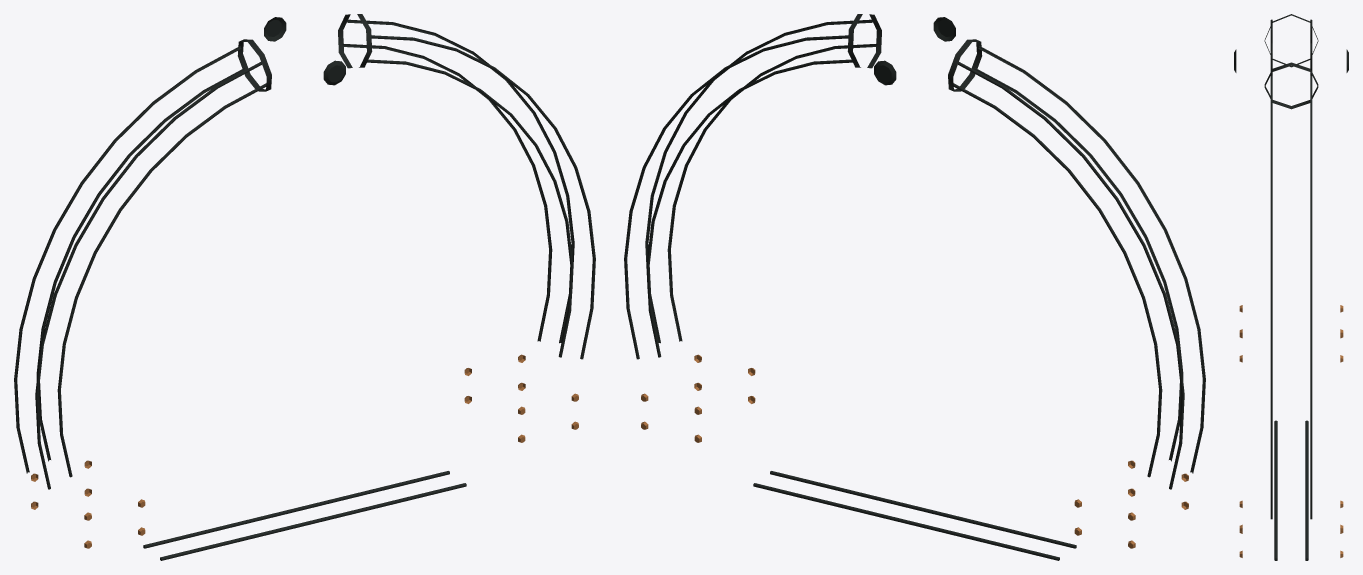
The model's file is fabricator_hoop_detail2.glb.
3 views of the same model, side by side, from view 1: azimuth 30°, elevation 25°; view 2: azimuth 150°, elevation 25°; view 3: azimuth 270°, elevation 25° (orthographic). The views are drawn at different scales.
Visible parts, largest first — view 1: Detail2; view 2: Detail2; view 3: Detail2.
Boxes of the visible parts, x1,y1,x2,y2 form: Detail2: (14, 14, 595, 560); Detail2: (624, 14, 1205, 560); Detail2: (1234, 14, 1348, 560).
Bounding box in the file's own units: 10.46 × 8.75 × 2.01.
